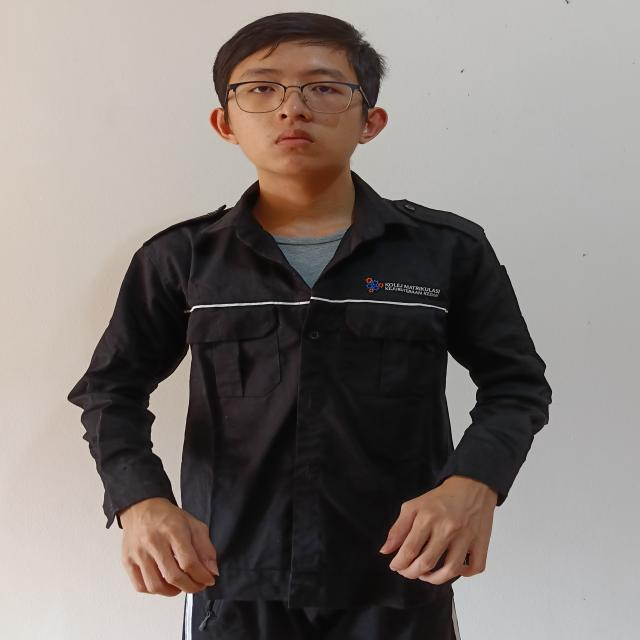person_with_labcoat: (69, 13, 551, 640)
